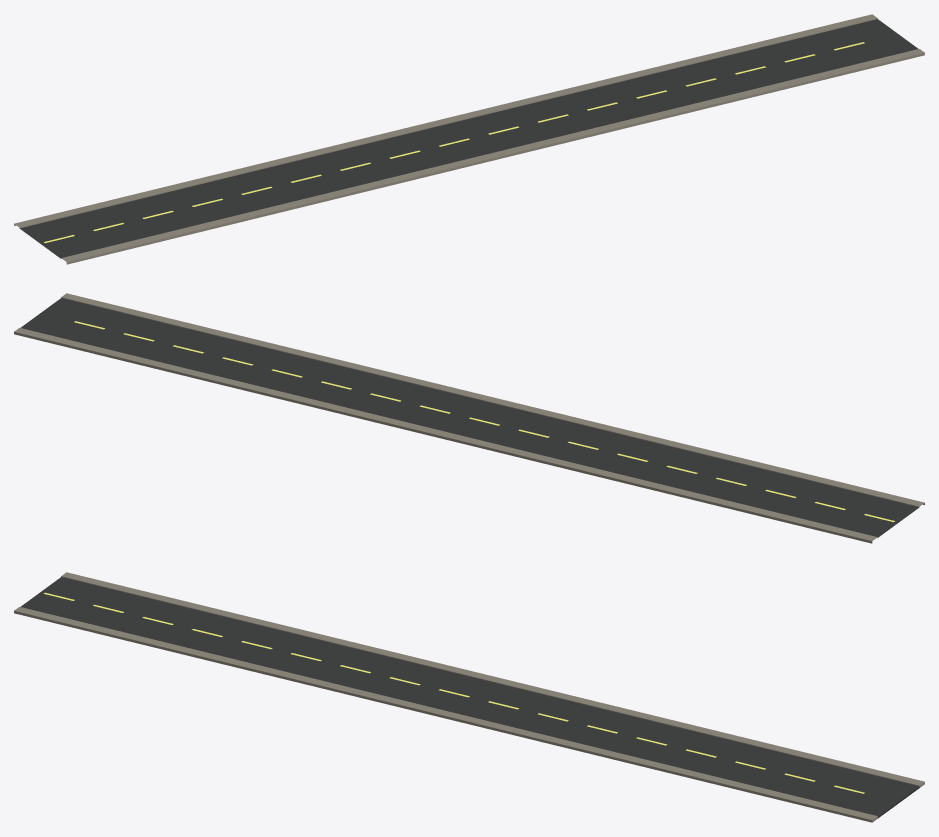
File: landside_road_ext.glb
3 views of the same model, one above another, from view 1: azimuth 30°, elevation 25°; view 2: azimuth 150°, elevation 25°; view 3: azimuth 330°, elevation 25° (orthographic).
Parts seen in each view (by area): view 1: Road_Ext, Road_Ext_Dashes; view 2: Road_Ext, Road_Ext_Dashes; view 3: Road_Ext, Road_Ext_Dashes.
Boxes of the visible parts, x1,y1,x2,y2 form: Road_Ext: [14, 14, 924, 264]; Road_Ext_Dashes: [44, 42, 864, 243]; Road_Ext: [14, 293, 924, 543]; Road_Ext_Dashes: [74, 321, 894, 522]; Road_Ext: [14, 572, 924, 822]; Road_Ext_Dashes: [44, 592, 864, 793].
Bounding box in the file's own units: 113 × 0.32 × 12.
2 materials, 2 textured.
